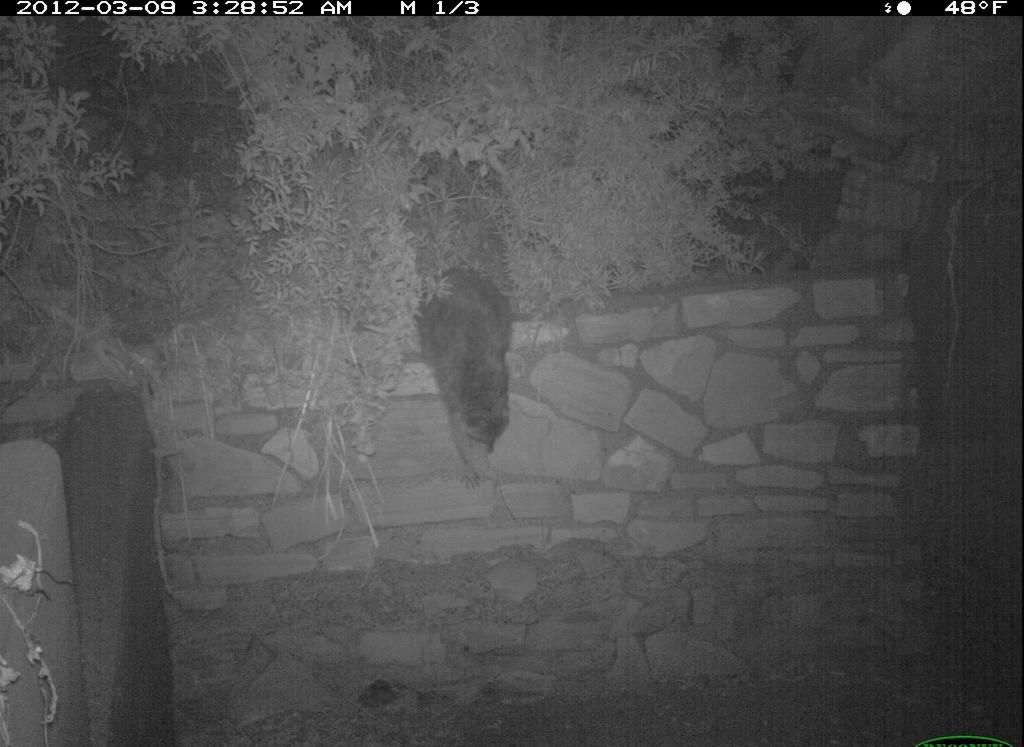raccoon: (399, 135, 537, 493)
